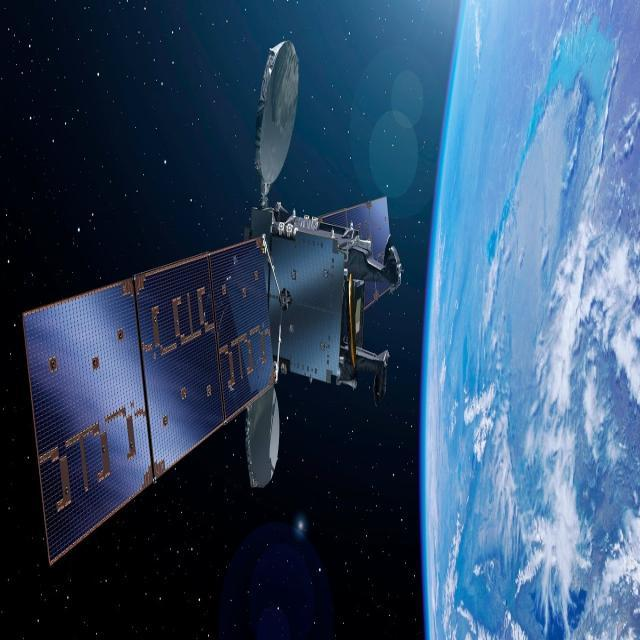sat: (19, 39, 393, 559)
